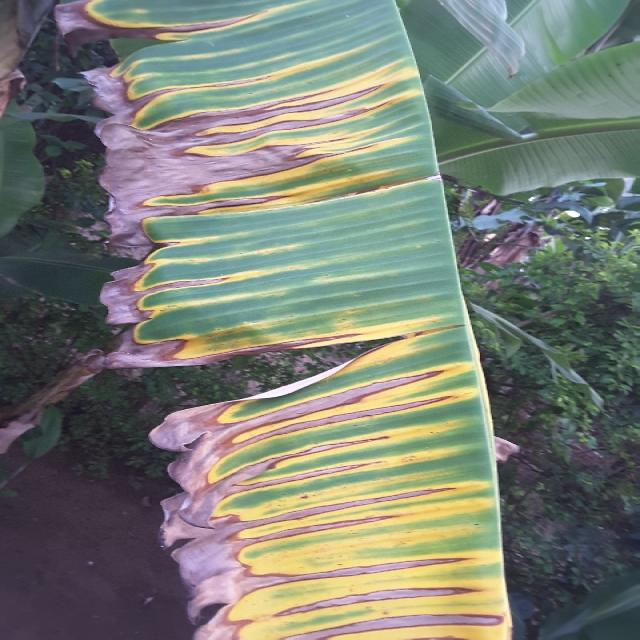Cordana: (41, 0, 514, 640)
